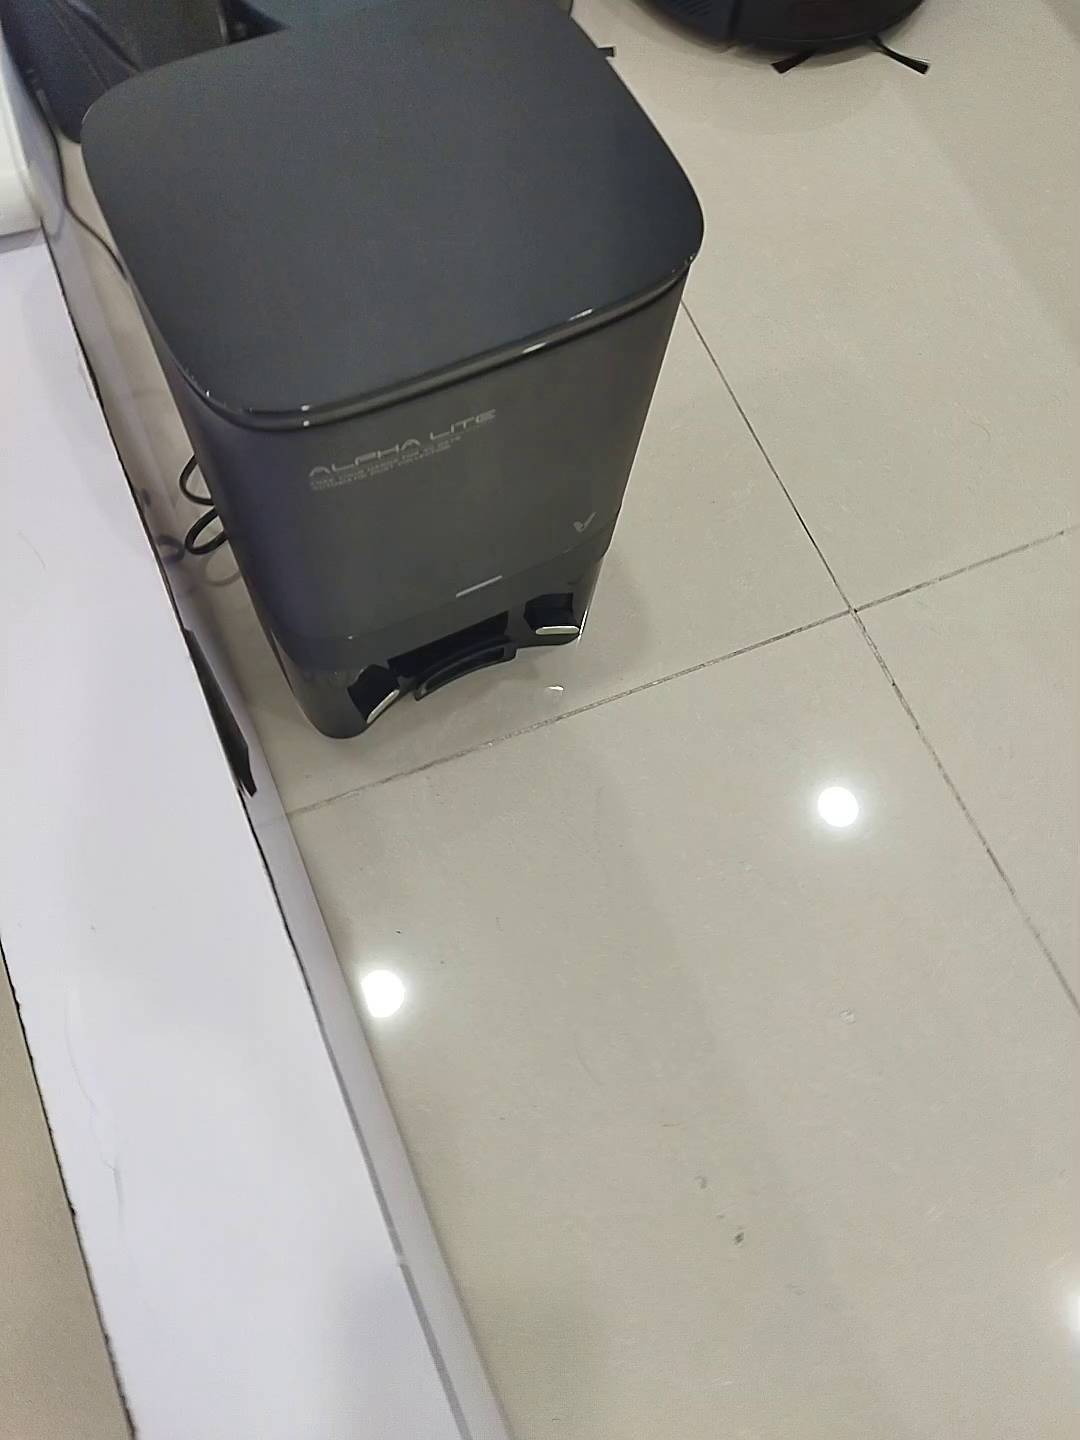dust collecting barrel: (84, 1, 702, 740)
